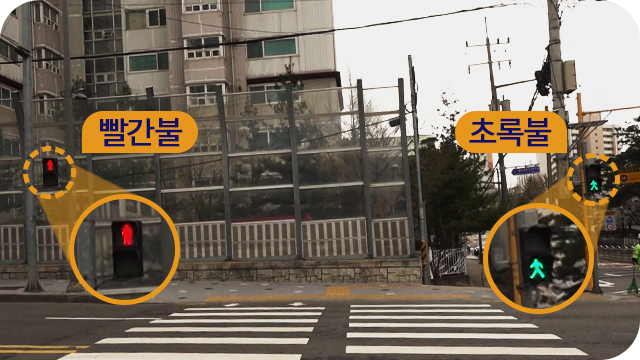traffic_light: (518, 229, 553, 283), (112, 221, 143, 276), (44, 156, 57, 190), (586, 166, 601, 193)
